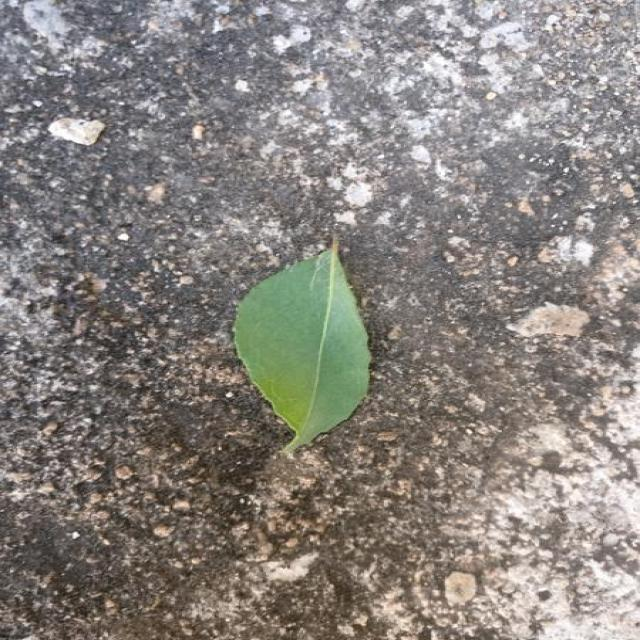curry: (237, 241, 368, 453)
